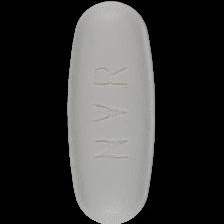54868-6041: (0, 0, 224, 224)
